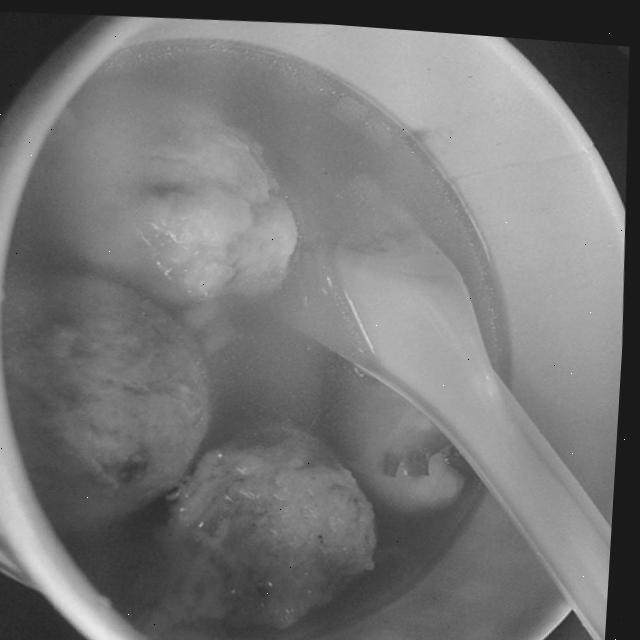熟制海鲜: (0, 5, 627, 640)
